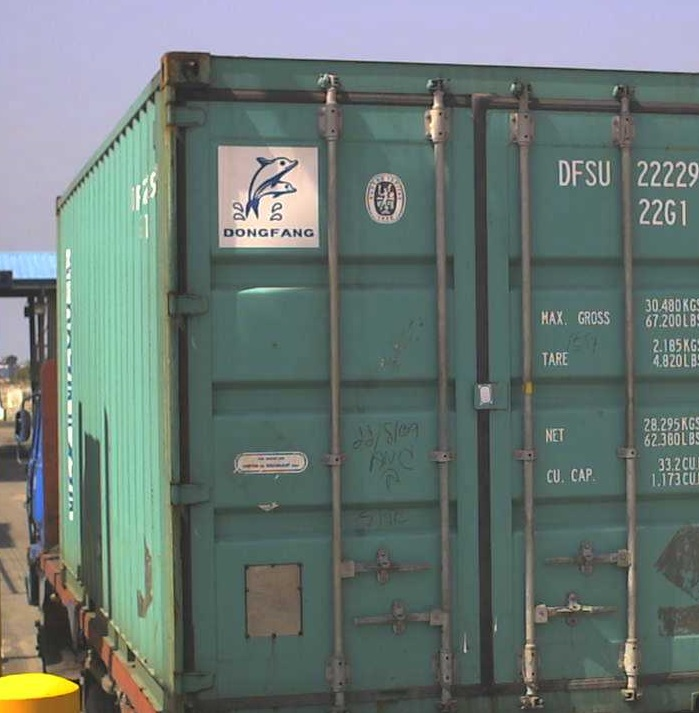container_door: (163, 51, 694, 709)
